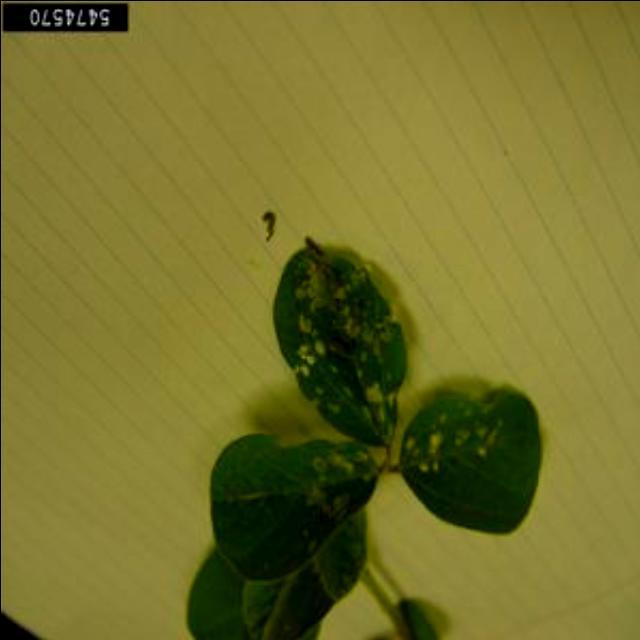Beet armyworm: (246, 194, 290, 252)
